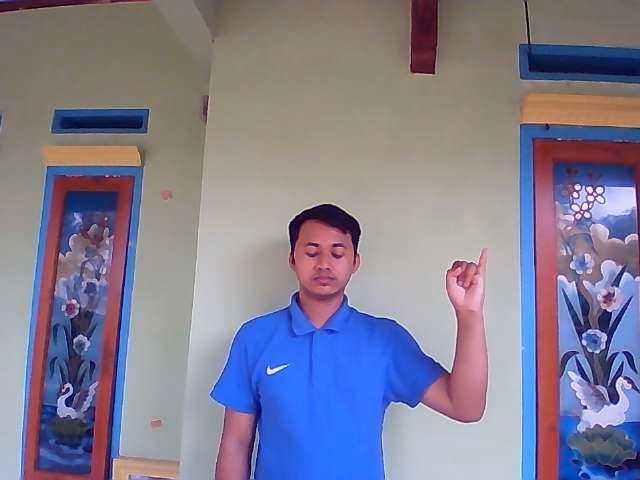I: (446, 246, 488, 314)
